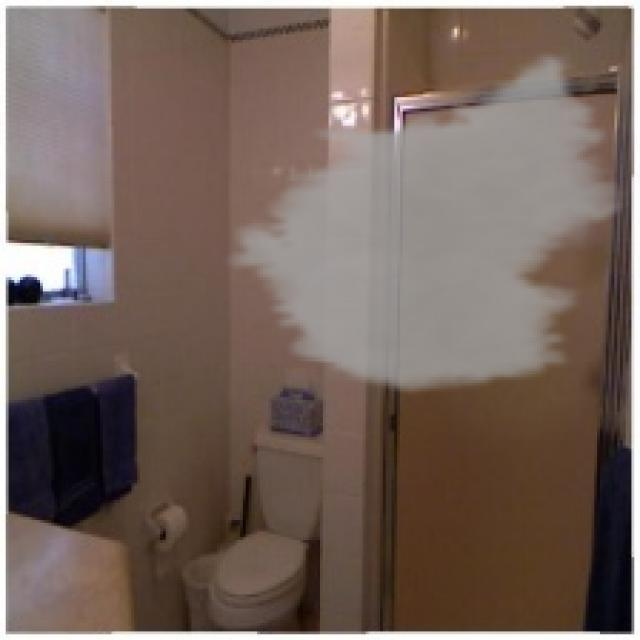Smoke: (220, 52, 637, 397)
